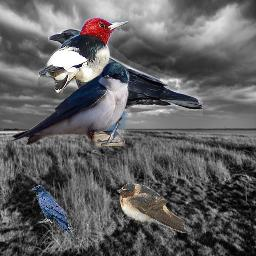Crow: (48, 29, 203, 146), (30, 185, 74, 233)
Swallow: (10, 61, 130, 145), (117, 183, 190, 233)
Woodpecker: (38, 17, 131, 94)
